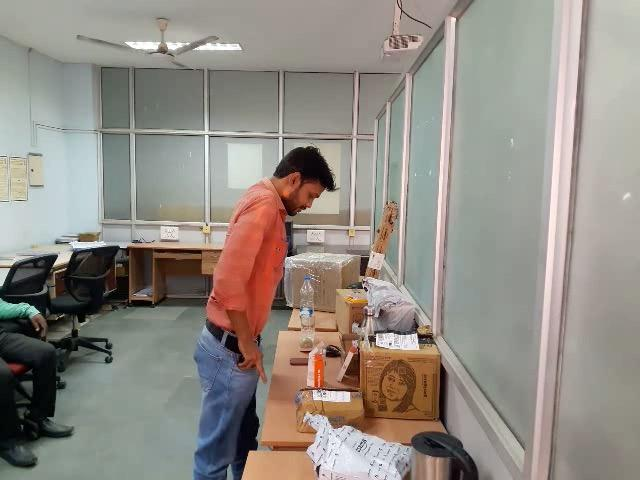shoplifting: (224, 339, 272, 398)
